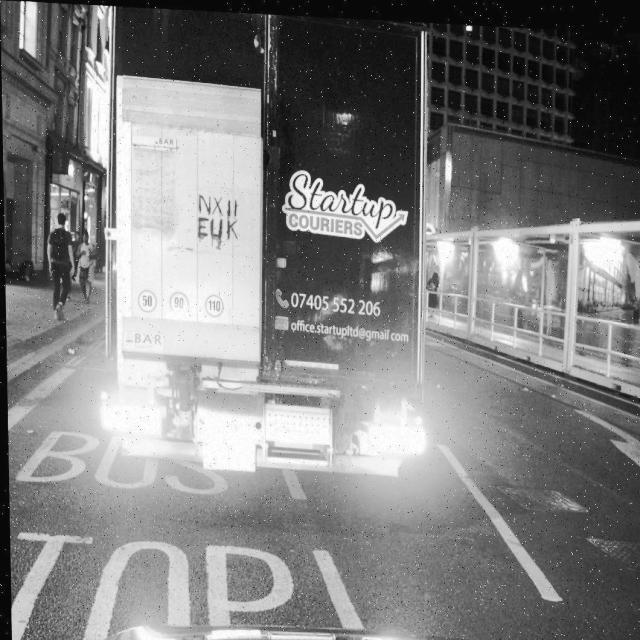Truck: (91, 4, 435, 476)
